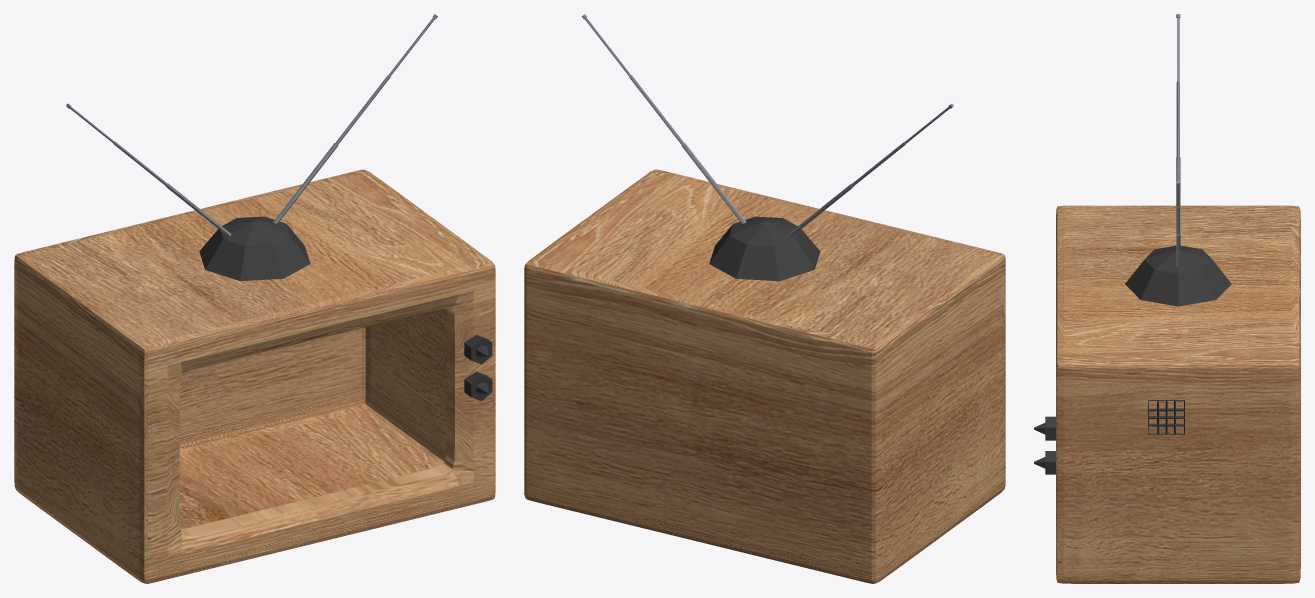
The picture shows the model from 3 angles, left to right: view 1: azimuth 30°, elevation 25°; view 2: azimuth 150°, elevation 25°; view 3: azimuth 270°, elevation 25°; orthographic projection. The views are drawn at different scales.
Visible parts, largest first — view 1: Cube.002; view 2: Cube.002; view 3: Cube.002, Cube.003.
Part boxes in pixels (left/top/right/bottom): Cube.002: left=14, top=14, right=495, bottom=583; Cube.002: left=524, top=14, right=1005, bottom=583; Cube.002: left=1034, top=14, right=1300, bottom=583; Cube.003: left=1148, top=400, right=1184, bottom=434.
Size of the model in its own units: 6.91 by 7.79 by 4.62.
Materials: 3 (2 with a texture image).
